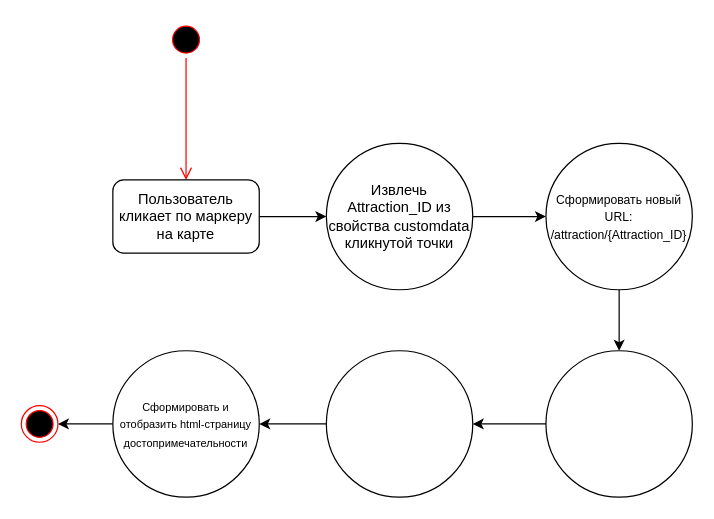
This 714x519 diagram has some shape labels left out. The centre of each missing label's shape, as x and y in pixels:
"Выполнить запрос к БД для получения информации о Attraction_ID" goes at [399,423].
"Скрыть главную страницу" goes at [618,423].
